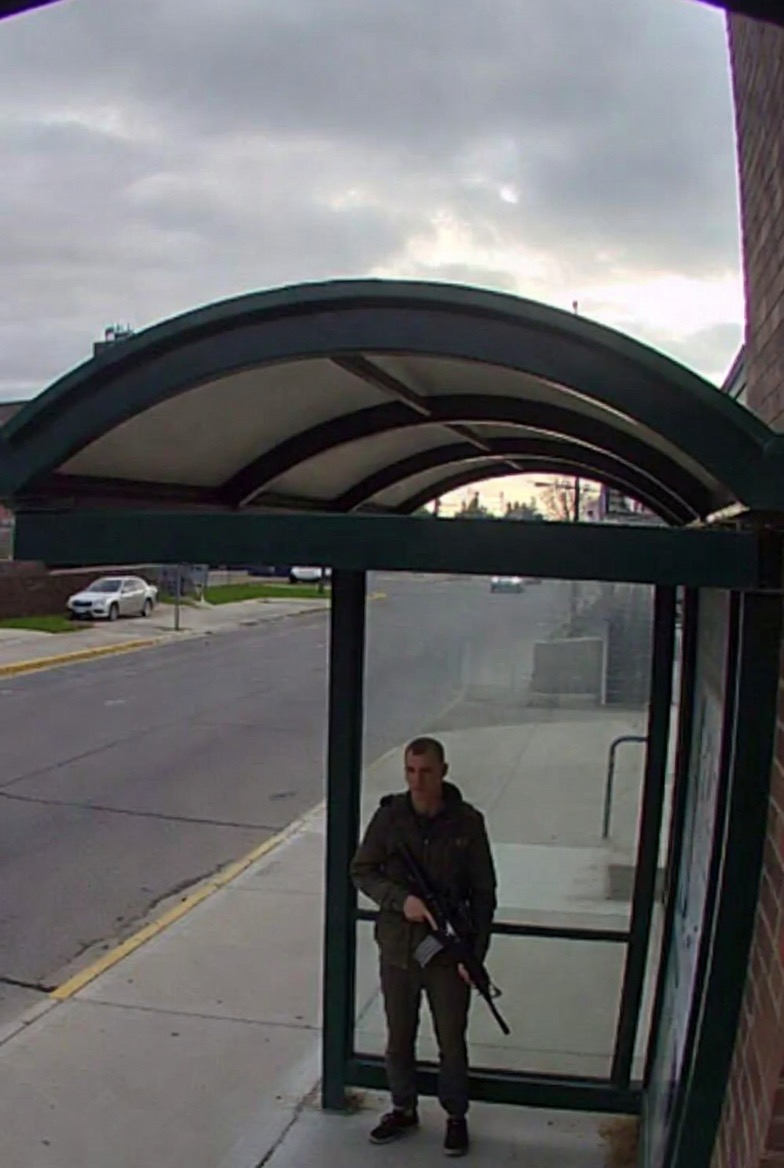person: (349, 737, 499, 1157)
weapon: (396, 844, 512, 1036)
